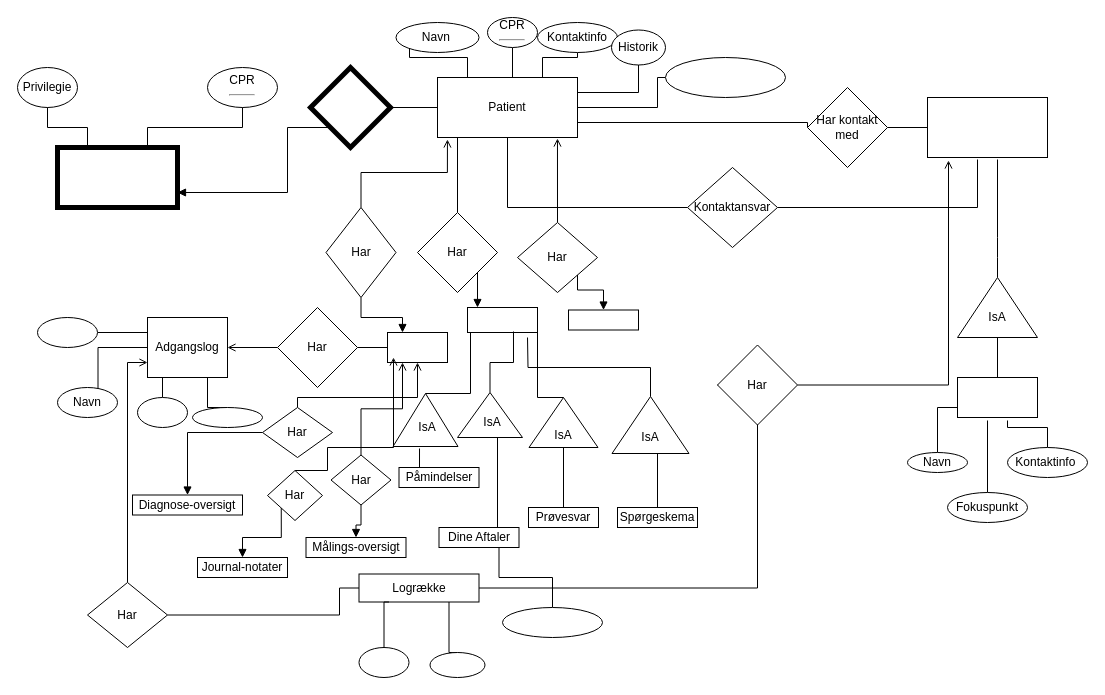
Image size: 1105x695. Some labels were removed from this diagram. Each missing label, with the box of its shape:
Afdeling: (192, 406, 262, 428)
Book aftaler: (502, 606, 602, 638)
Data: (136, 396, 188, 428)
Dato: (358, 646, 409, 678)
Fuldmagt: (54, 144, 180, 210)
Giver: (308, 64, 392, 150)
Indbakke: (466, 306, 538, 332)
Jobtittel: (36, 316, 98, 348)
Journal: (386, 332, 448, 362)
Læge: (956, 376, 1038, 418)
Password/Nøglekort: (664, 56, 786, 98)
Sundhedsfaglig Person: (926, 96, 1048, 158)
Tekst: (429, 652, 485, 678)
Udbakke: (568, 309, 638, 330)
